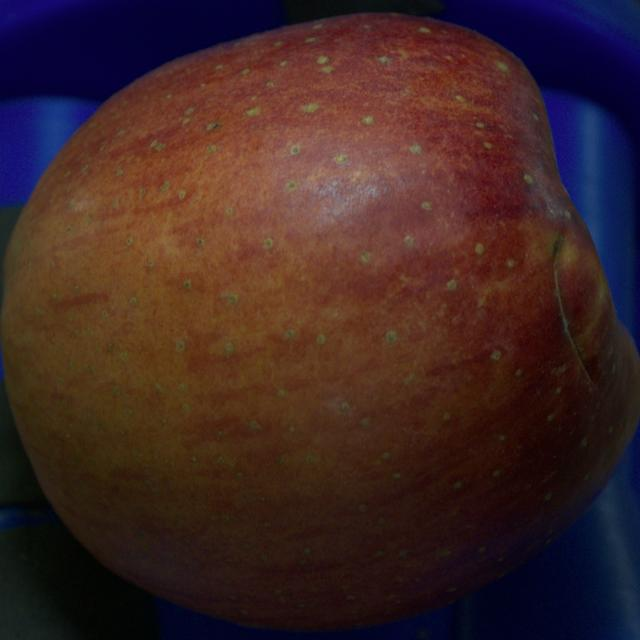apple: (1, 16, 639, 630)
scratch: (554, 238, 593, 382)
